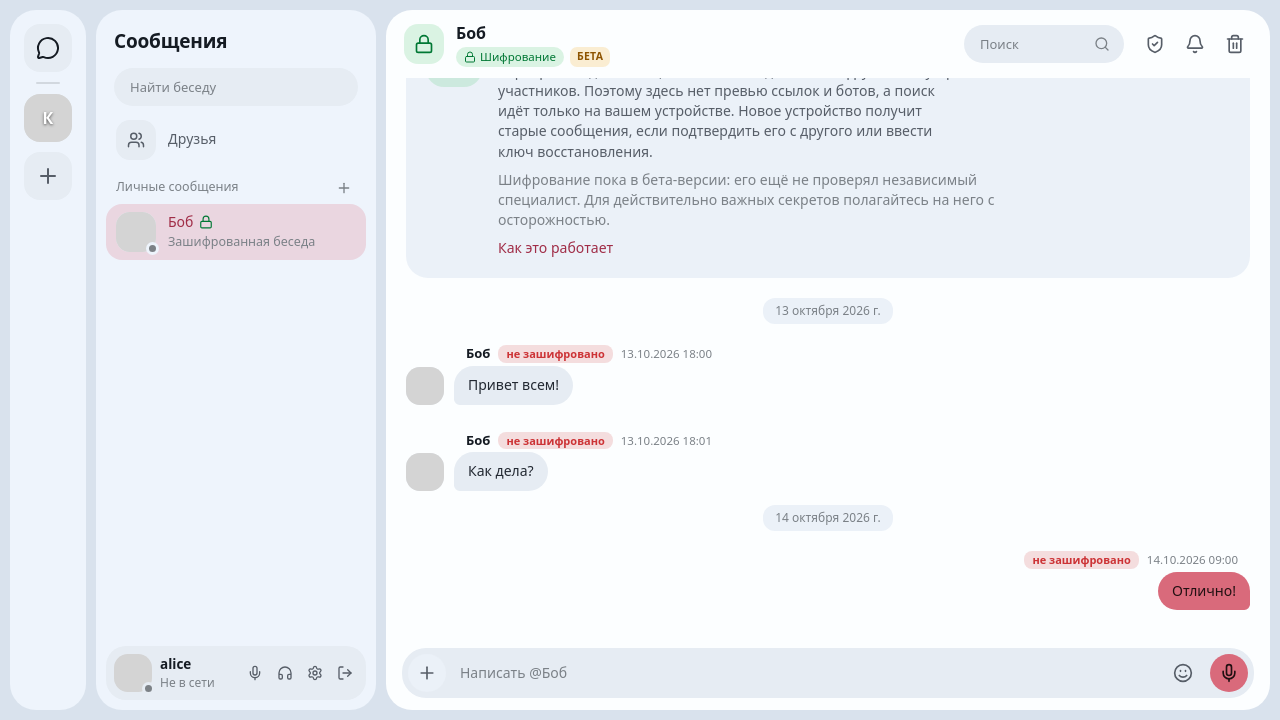
Scenario: deleting an encrypted conversation › says why when the server refuses, and keeps the conversation
The width and height of the screenshot is (1280, 720).
Click the button named "Удалить беседу" at (1235, 44), box [1216,25,1254,63]
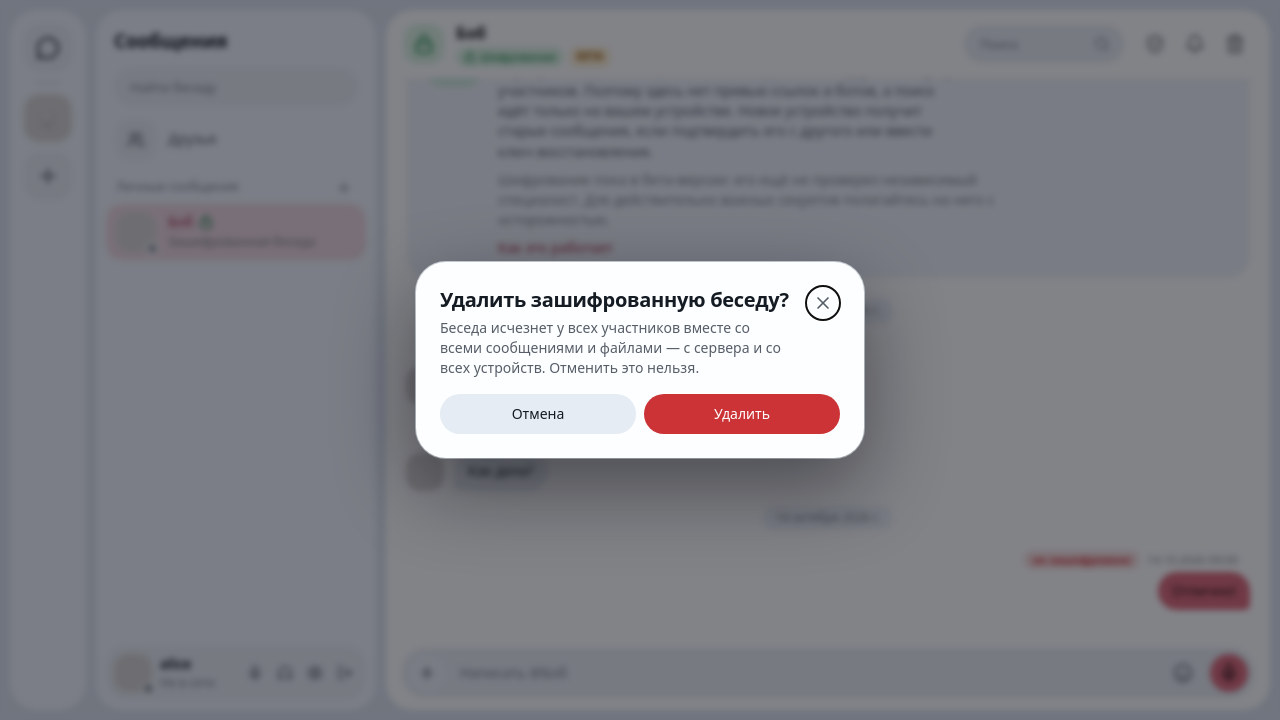
Click the button "Удалить" at (742, 414), box [644,394,840,434]
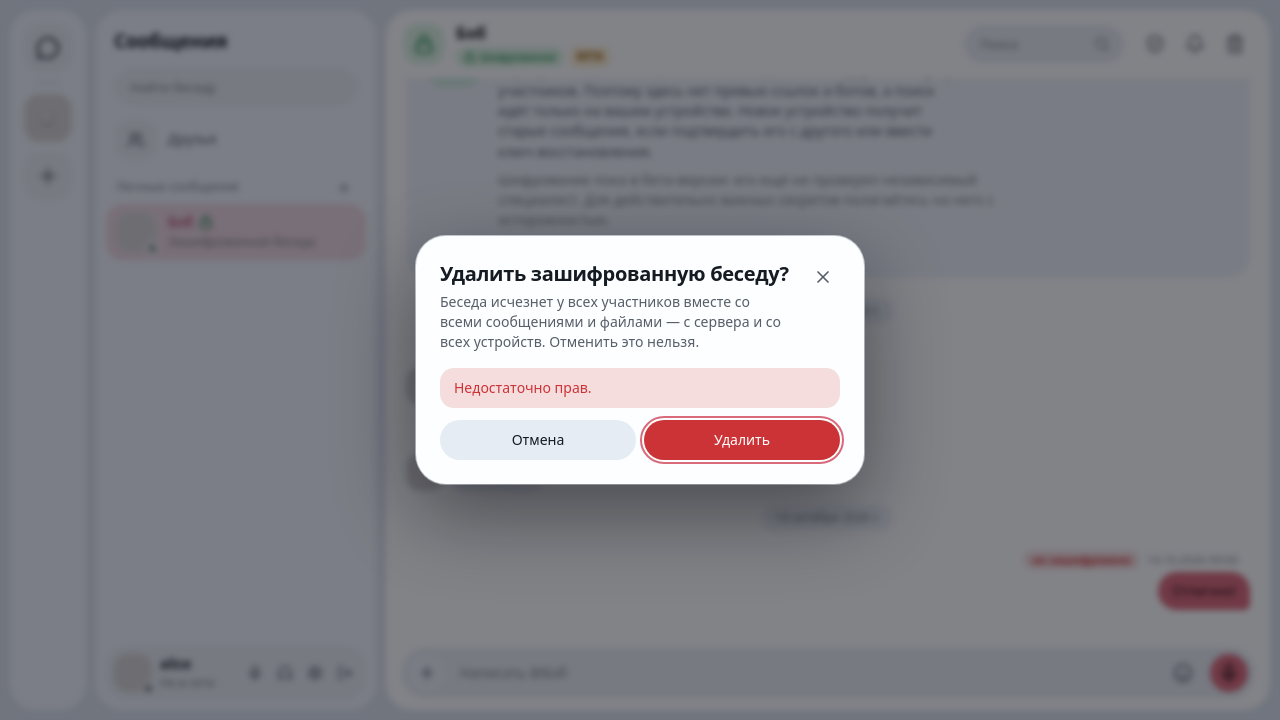
Result: the message "Недостаточно прав." is shown at [440,368,840,408]
